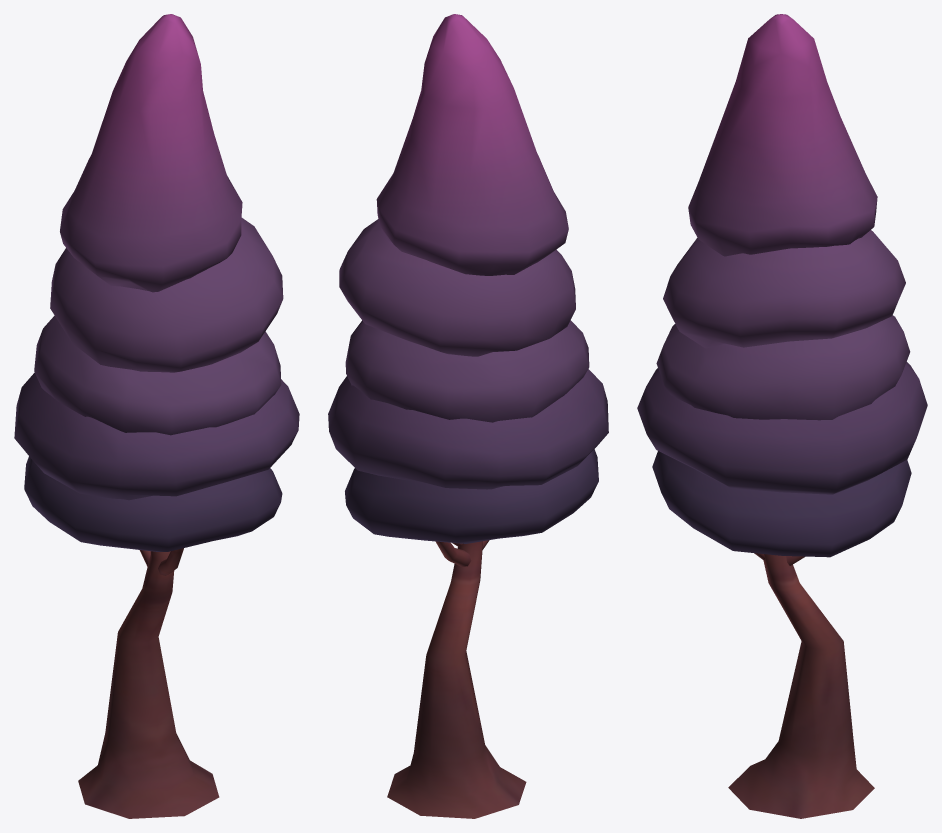
File: arboles14.fbx
3 renders of one model, left to right at view 1: azimuth 30°, elevation 25°; view 2: azimuth 150°, elevation 25°; view 3: azimuth 270°, elevation 25°, orthographic.
Visible parts, largest first — view 1: Tree.020_Base_Material_0.003; view 2: Tree.020_Base_Material_0.003; view 3: Tree.020_Base_Material_0.003.
Part boxes in pixels (x1=…): Tree.020_Base_Material_0.003: x1=14, y1=14, x2=299, y2=818; Tree.020_Base_Material_0.003: x1=328, y1=14, x2=608, y2=818; Tree.020_Base_Material_0.003: x1=637, y1=14, x2=927, y2=818.
Bounding box in the file's own units: 230 × 700 × 236.
